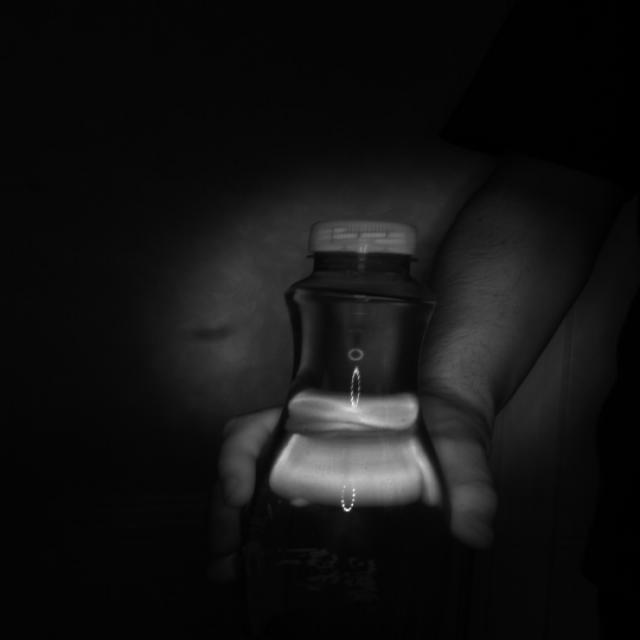Good: (310, 215, 419, 255)
